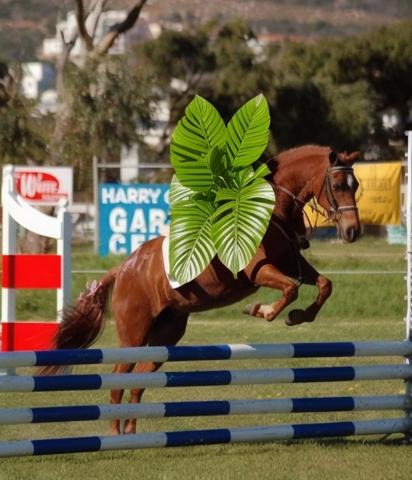horse: (41, 146, 360, 435)
pottedplant: (169, 93, 279, 281)
